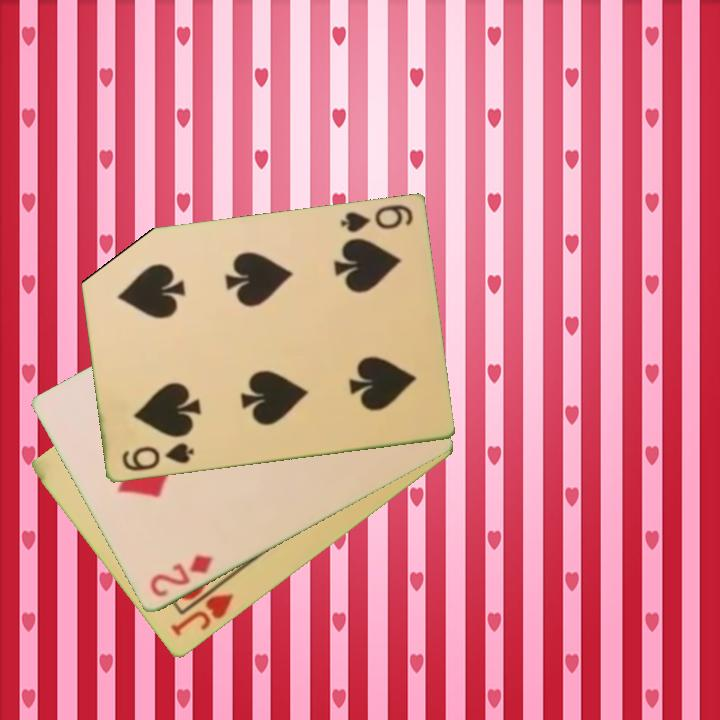2d: (146, 552, 215, 601)
6s: (118, 439, 197, 475), (337, 201, 415, 236)
Jh: (166, 576, 237, 640)
